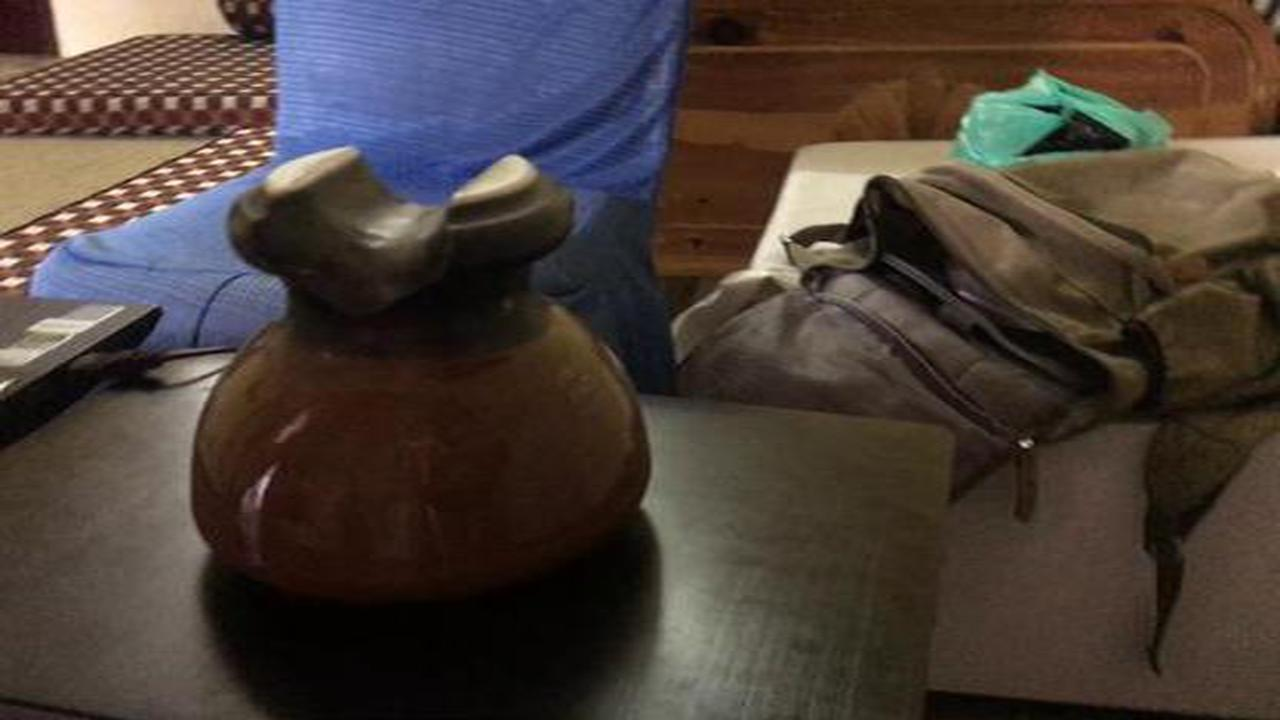insulator_pin: (167, 128, 674, 632)
